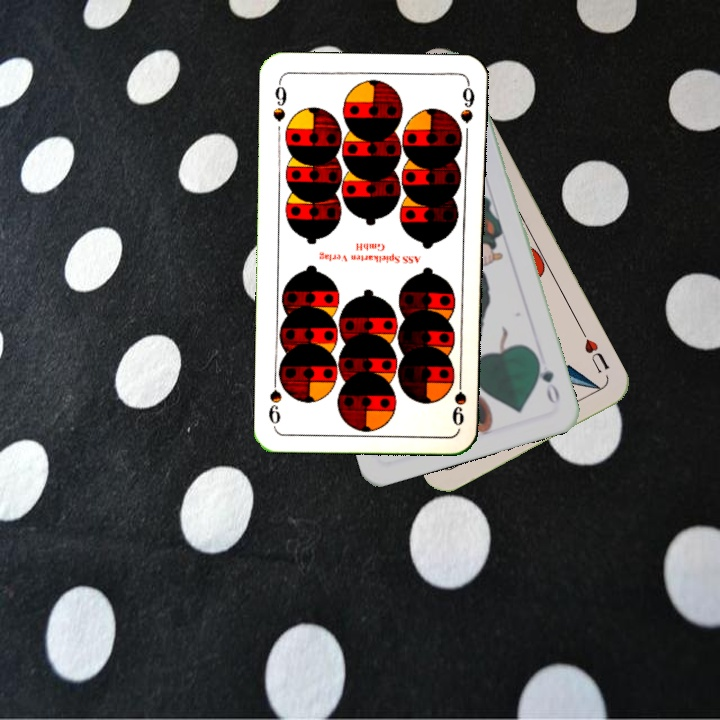GO: (532, 352, 563, 408)
HU: (576, 325, 612, 376)
S9: (448, 370, 469, 429), (269, 77, 290, 124)
